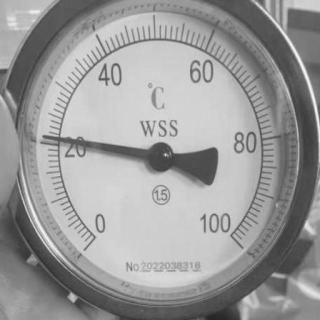gauge: (0, 0, 320, 320), (192, 208, 248, 257), (146, 141, 174, 174), (83, 220, 109, 252), (38, 129, 54, 143)
